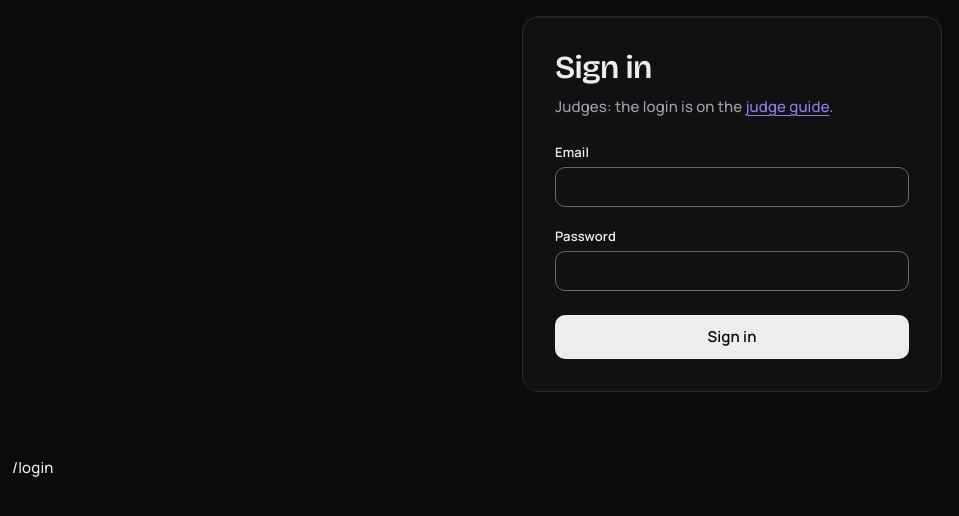
Test case: Login › explains the rate limit on 429
In the field labelled "Email": (732, 187) [555,167,909,207], type "judge@example.com"
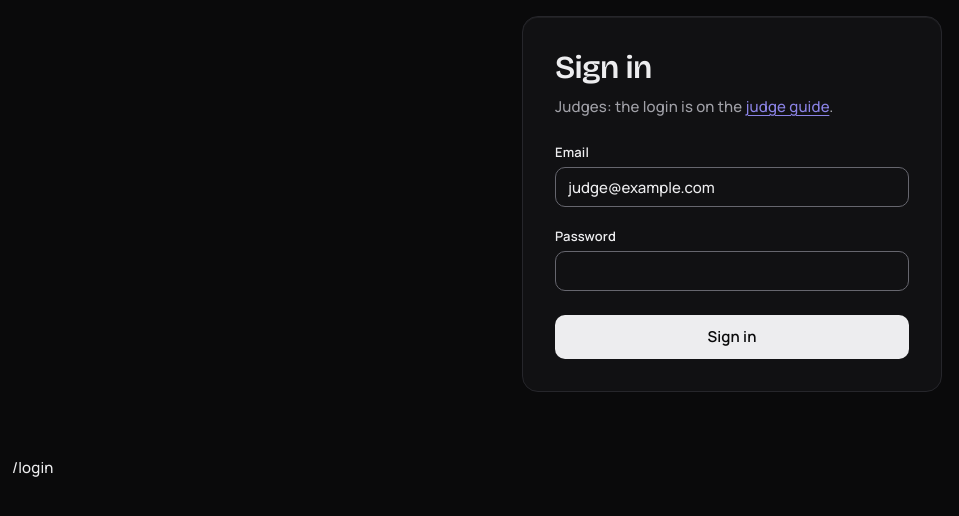
In the password field labelled "Password": (732, 271) [555,251,909,291], type "pw"
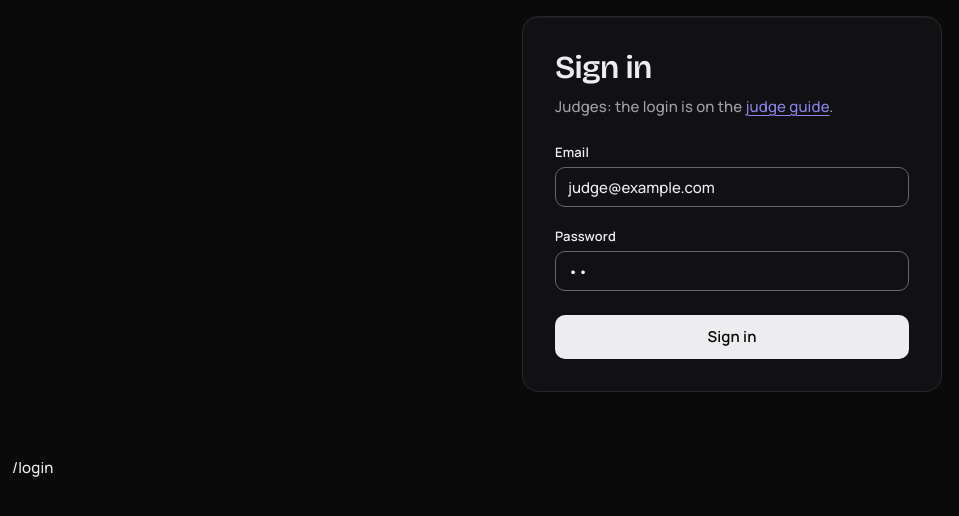
Click the button "Sign in": (732, 337) [555,315,909,359]
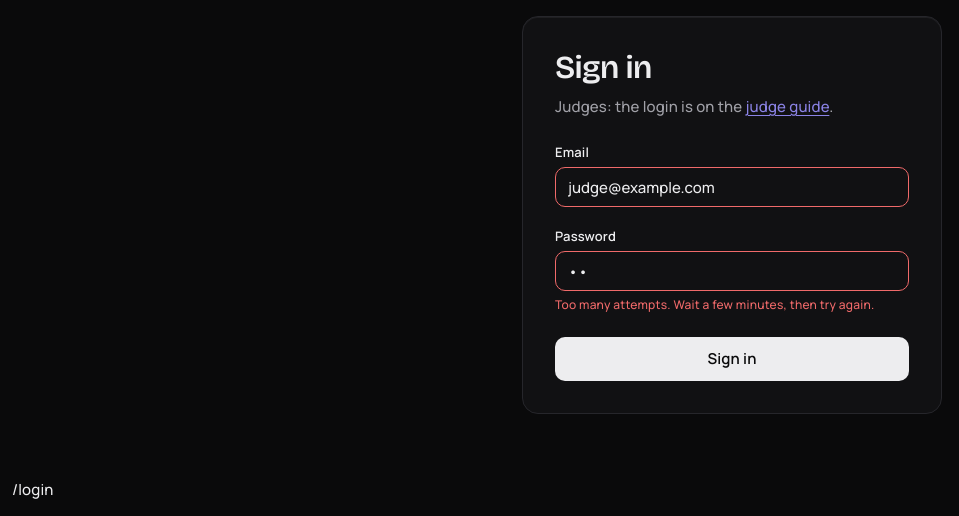
Expected: the message shows "Too many attempts", [555,296,874,313]
